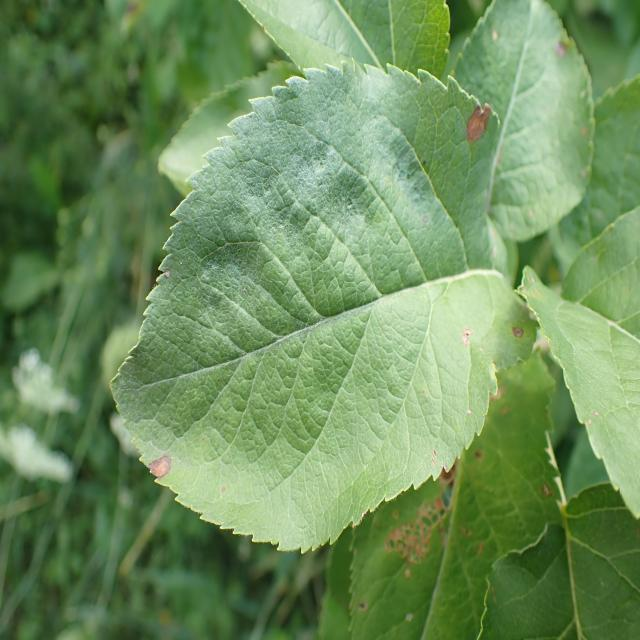Black Rot: (133, 417, 181, 500), (458, 86, 499, 160), (541, 14, 583, 71), (460, 307, 480, 364), (506, 310, 531, 352)
